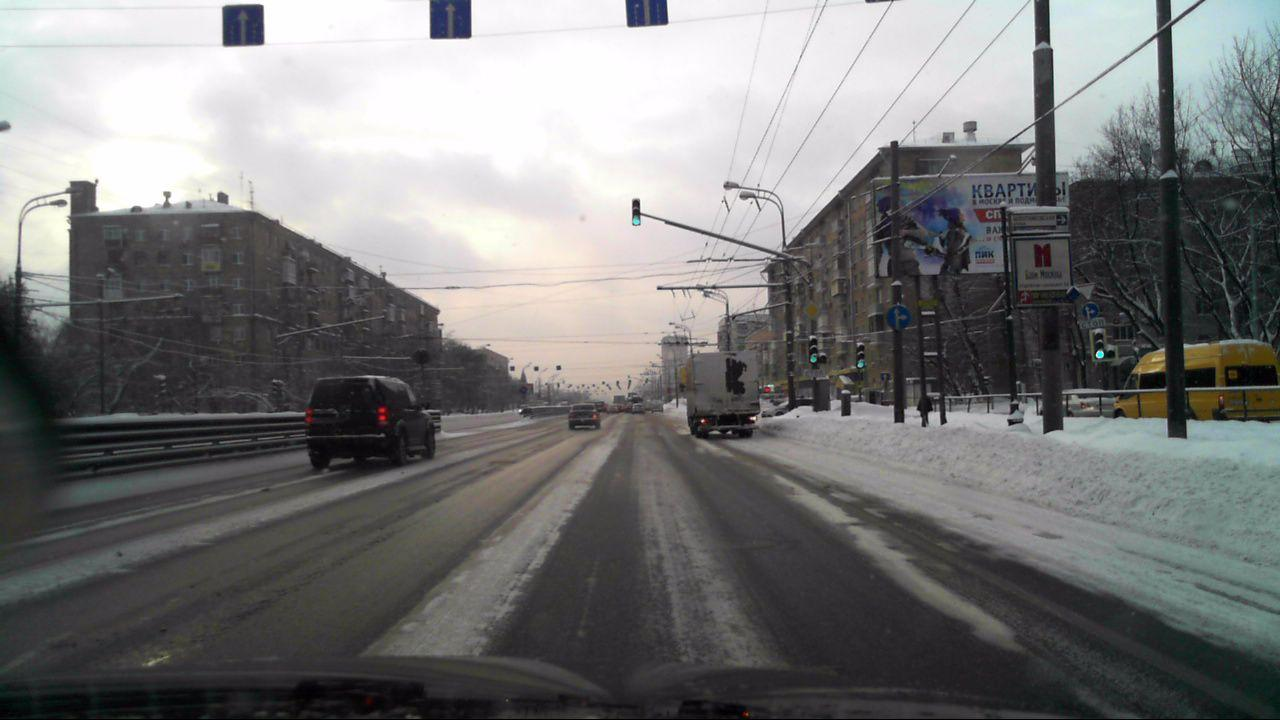obstructed_road_sign: (625, 0, 669, 27), (1075, 283, 1095, 301)
road_sign: (222, 4, 264, 45), (430, 0, 472, 40), (887, 305, 910, 330), (1081, 301, 1099, 320)
traffic light: (1088, 328, 1120, 364), (808, 335, 828, 366), (854, 342, 866, 370), (631, 198, 641, 226)
